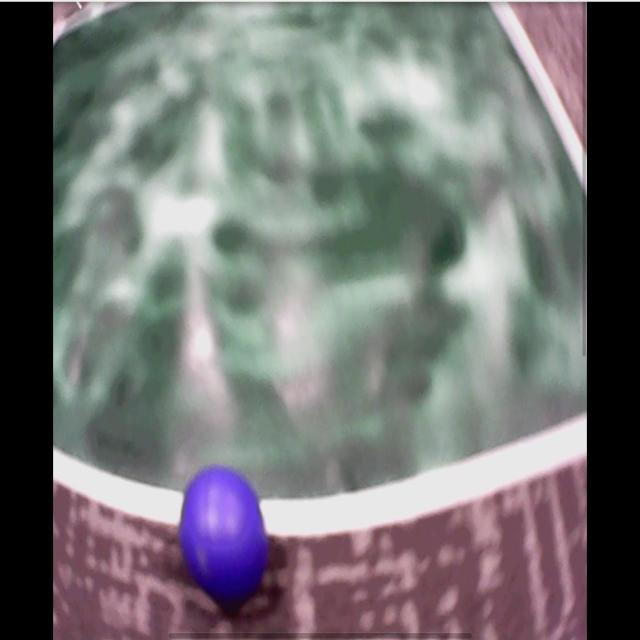ball: (181, 467, 269, 605)
